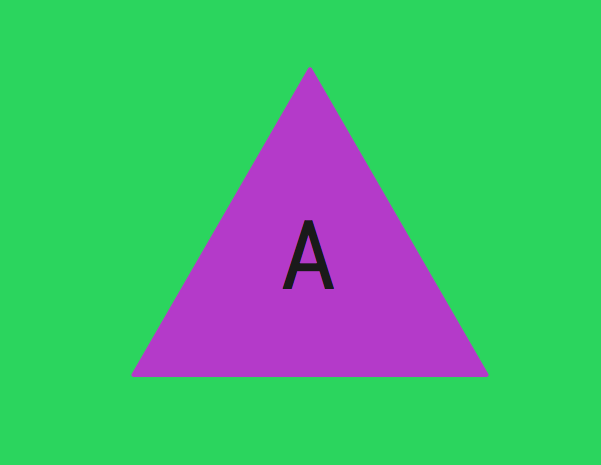A: (274, 215, 341, 294)
triangle: (124, 60, 494, 384)
